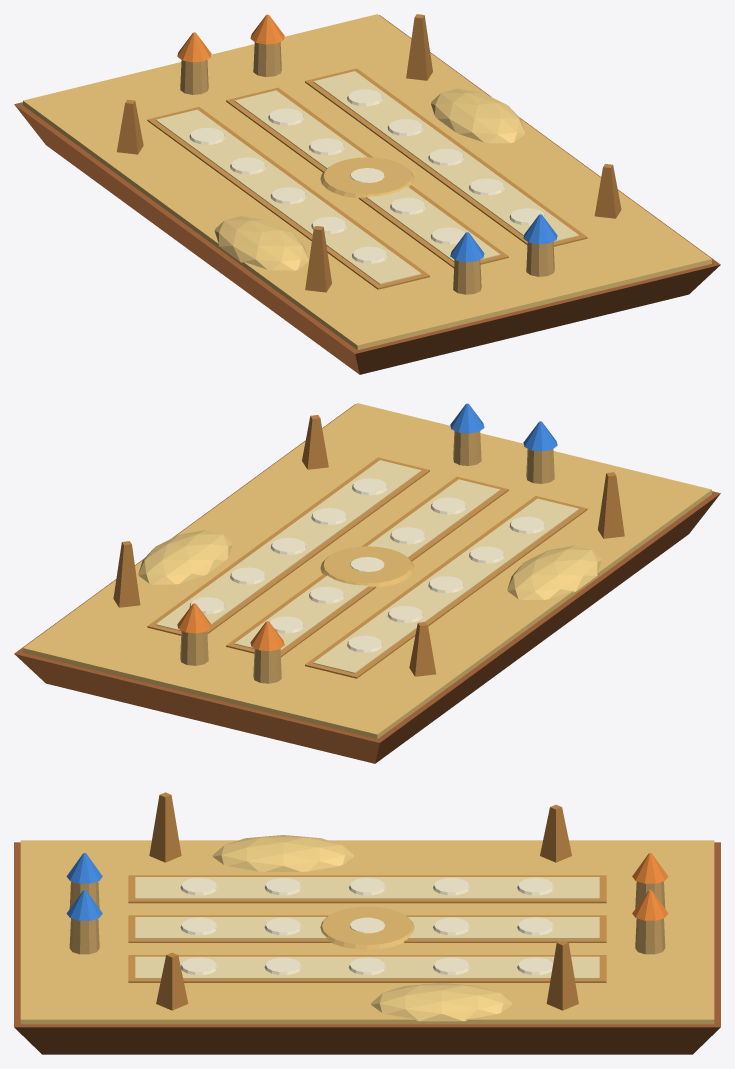
The model's file is field-desert-v2.glb.
The picture shows the model from 3 angles, top to bottom: view 1: azimuth 30°, elevation 25°; view 2: azimuth 150°, elevation 25°; view 3: azimuth 270°, elevation 25°; orthographic projection. The views are drawn at different scales.
Visible parts, largest first — view 1: Deck_Top, Island_Base, LanePath_0, LanePath_2, LanePath_1, SandDune_0, SandDune_1, LaneCurb_0, LaneCurb_2, Monster_Plaza, LaneCurb_1, Obelisk_1 (+11 smaller); view 2: Deck_Top, Island_Base, LanePath_0, LanePath_2, LanePath_1, SandDune_0, SandDune_1, LaneCurb_0, LaneCurb_2, Monster_Plaza, LaneCurb_1, Obelisk_1 (+11 smaller); view 3: Deck_Top, Island_Base, LanePath_0, LanePath_2, LanePath_1, SandDune_1, SandDune_0, LaneCurb_0, LaneCurb_2, Monster_Plaza, LaneCurb_1, Obelisk_1 (+26 smaller).
Part boxes in pixels (x1,y1,x2,y2): Deck_Top: (23, 14, 711, 350); Island_Base: (14, 15, 720, 374); LanePath_0: (155, 109, 421, 284); LanePath_2: (313, 71, 579, 241); LanePath_1: (234, 90, 500, 261); SandDune_0: (214, 216, 308, 270); SandDune_1: (431, 88, 524, 143); LaneCurb_0: (147, 107, 429, 289); LaneCurb_2: (305, 68, 587, 246); Monster_Plaza: (320, 157, 414, 198); LaneCurb_1: (226, 87, 508, 268); Obelisk_1: (406, 14, 432, 80); Deck_Top: (23, 403, 711, 739); Island_Base: (14, 404, 720, 763); LanePath_0: (313, 498, 579, 673); LanePath_2: (155, 460, 421, 630); LanePath_1: (234, 479, 500, 650); SandDune_0: (507, 545, 601, 599); SandDune_1: (138, 530, 232, 584); LaneCurb_0: (305, 496, 587, 678); LaneCurb_2: (147, 457, 429, 635); Monster_Plaza: (320, 546, 414, 587); LaneCurb_1: (226, 476, 508, 657); Obelisk_1: (113, 541, 140, 607); Deck_Top: (20, 840, 714, 1024); Island_Base: (14, 842, 720, 1054); LanePath_0: (135, 877, 599, 898); LanePath_2: (135, 956, 599, 978); LanePath_1: (135, 917, 599, 938); SandDune_1: (371, 983, 512, 1021); SandDune_0: (212, 835, 353, 871); LaneCurb_0: (128, 875, 606, 903); LaneCurb_2: (128, 955, 606, 982); Monster_Plaza: (320, 906, 414, 949); LaneCurb_1: (128, 915, 606, 942); Obelisk_1: (546, 940, 578, 1010).
Bounding box in the file's own units: 13 × 3.36 × 21.
